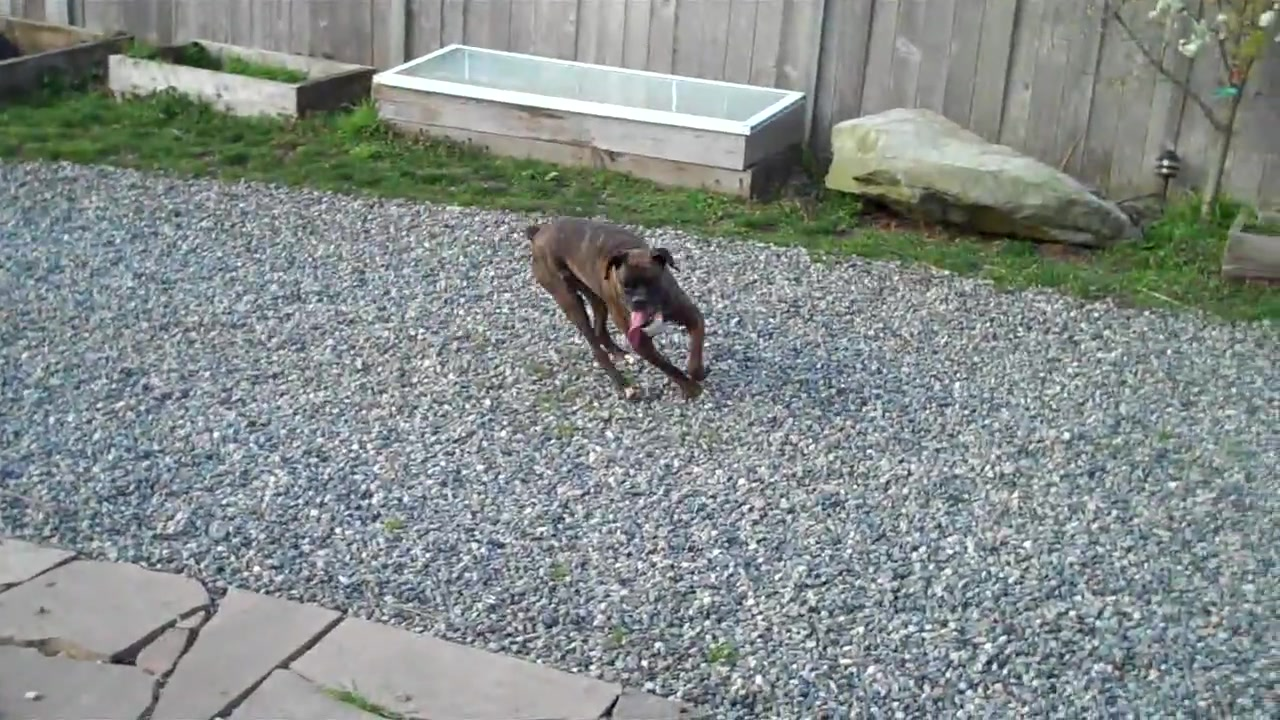dog: (522, 215, 710, 404)
